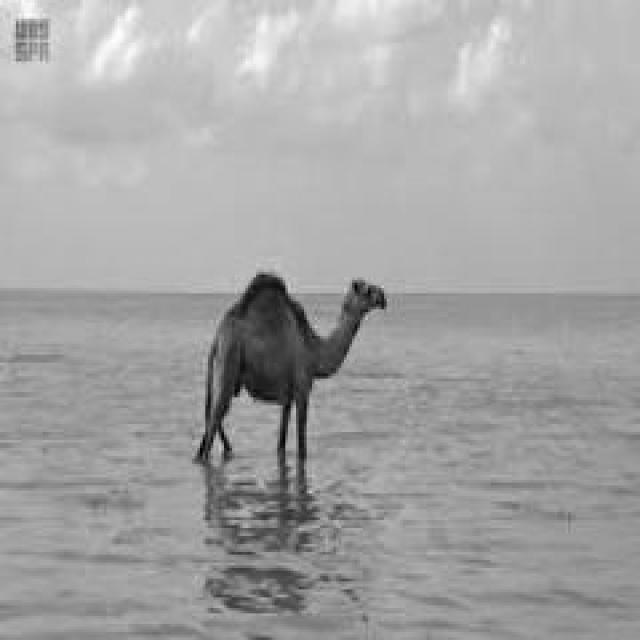Camel: (192, 270, 387, 470)
